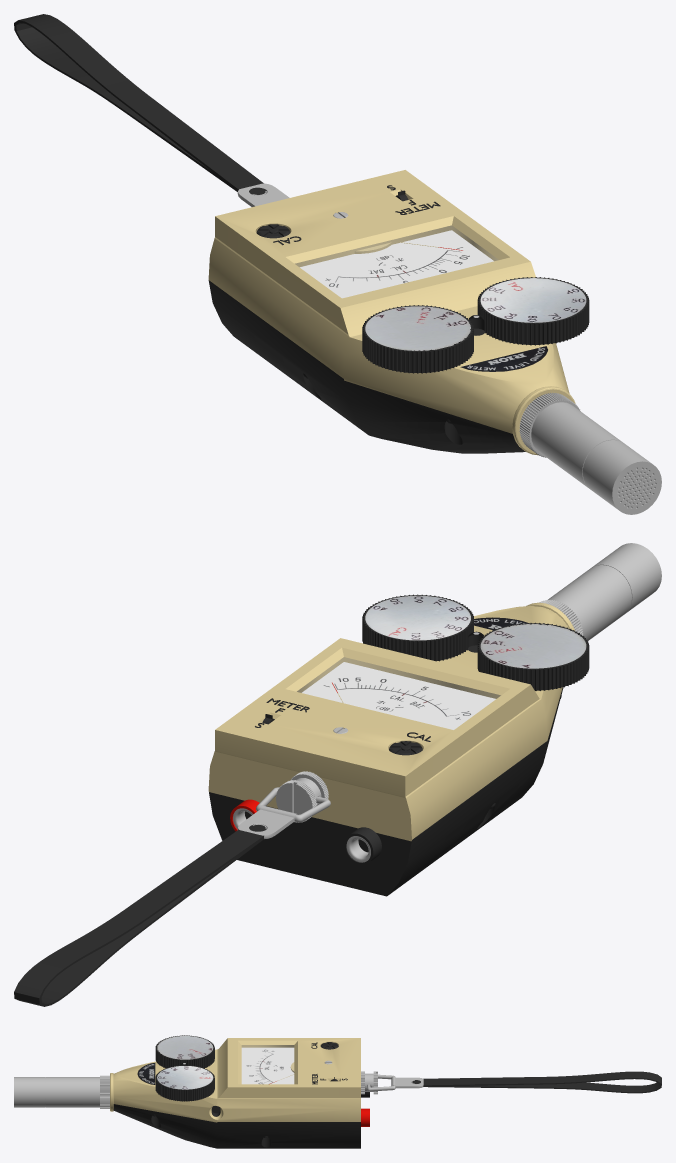
The model's file is souonkei.glb.
3 renders of one model, top to bottom at view 1: azimuth 30°, elevation 25°; view 2: azimuth 150°, elevation 25°; view 3: azimuth 270°, elevation 25°, orthographic. The views are drawn at different scales.
Parts seen in each view (by area): view 1: Body, nob2, nov1, Body.001, seal; view 2: Body, Body.001, nob2, nov1; view 3: Body, Body.001, nov1, nob2, seal.
Boxes of the visible parts, <box> form: Body: <box>14,14,661,514</box>; nob2: <box>362,305,473,373</box>; nov1: <box>477,277,589,345</box>; Body.001: <box>300,230,493,298</box>; seal: <box>460,346,547,371</box>; Body: <box>14,543,661,1006</box>; Body.001: <box>302,662,495,729</box>; nob2: <box>477,622,589,690</box>; nov1: <box>362,594,473,661</box>; Body: <box>14,1038,661,1148</box>; Body.001: <box>241,1047,294,1084</box>; nov1: <box>155,1065,214,1101</box>; nob2: <box>155,1035,214,1068</box>; seal: <box>137,1063,155,1084</box>.
Bounding box in the file's own units: 0.0836 × 0.0484 × 0.4166.
8 materials, 3 textured.
